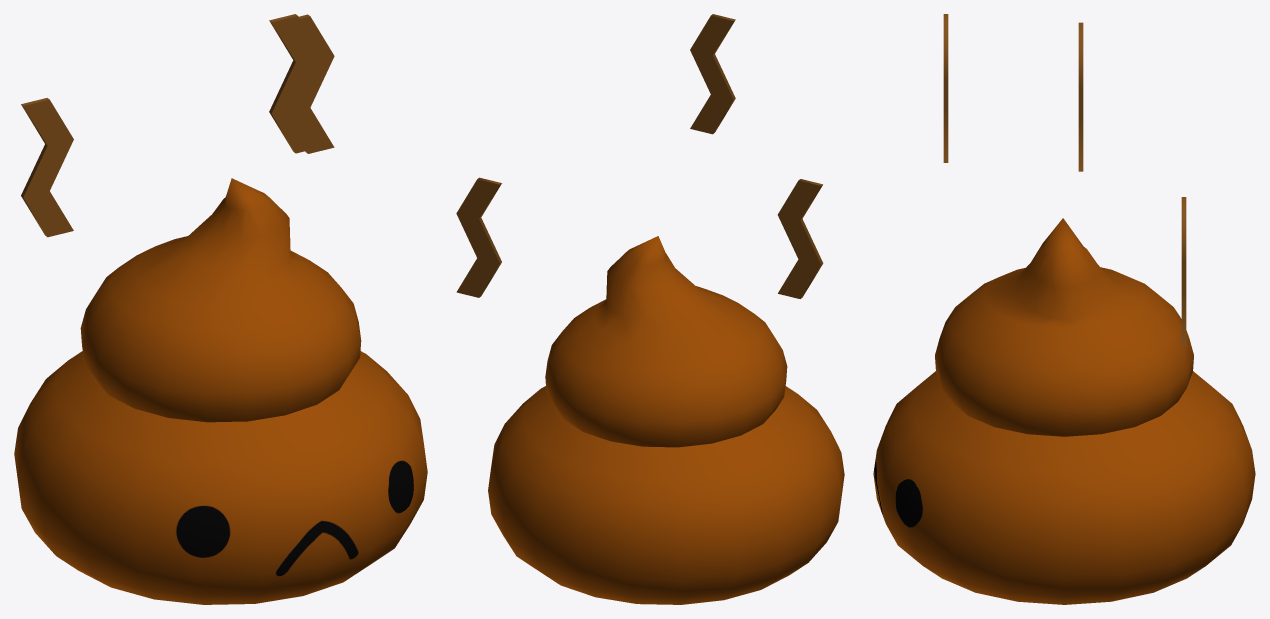
File: poo1.fbx
3 views of the same model, side by side, from view 1: azimuth 30°, elevation 25°; view 2: azimuth 150°, elevation 25°; view 3: azimuth 270°, elevation 25° (orthographic). The views are drawn at different scales.
Parts seen in each view (by area): view 1: poo_body, smell_line_1, smell_line, smell_line_2; view 2: poo_body, smell_line_2, smell_line_1, smell_line; view 3: poo_body, smell_line, smell_line_2, smell_line_1.
Part boxes in pixels (x1,y1,x2,y2): poo_body: [14, 178, 427, 604]; smell_line_1: [269, 14, 321, 153]; smell_line: [21, 98, 73, 237]; smell_line_2: [298, 14, 334, 153]; poo_body: [488, 236, 844, 604]; smell_line_2: [456, 177, 501, 297]; smell_line_1: [690, 14, 735, 134]; smell_line: [777, 179, 823, 298]; poo_body: [873, 218, 1255, 604]; smell_line: [1078, 22, 1083, 171]; smell_line_2: [1181, 197, 1186, 345]; smell_line_1: [943, 14, 948, 162].
Size of the model in its own units: 304 by 457 by 296.
2 materials, 2 textured.
